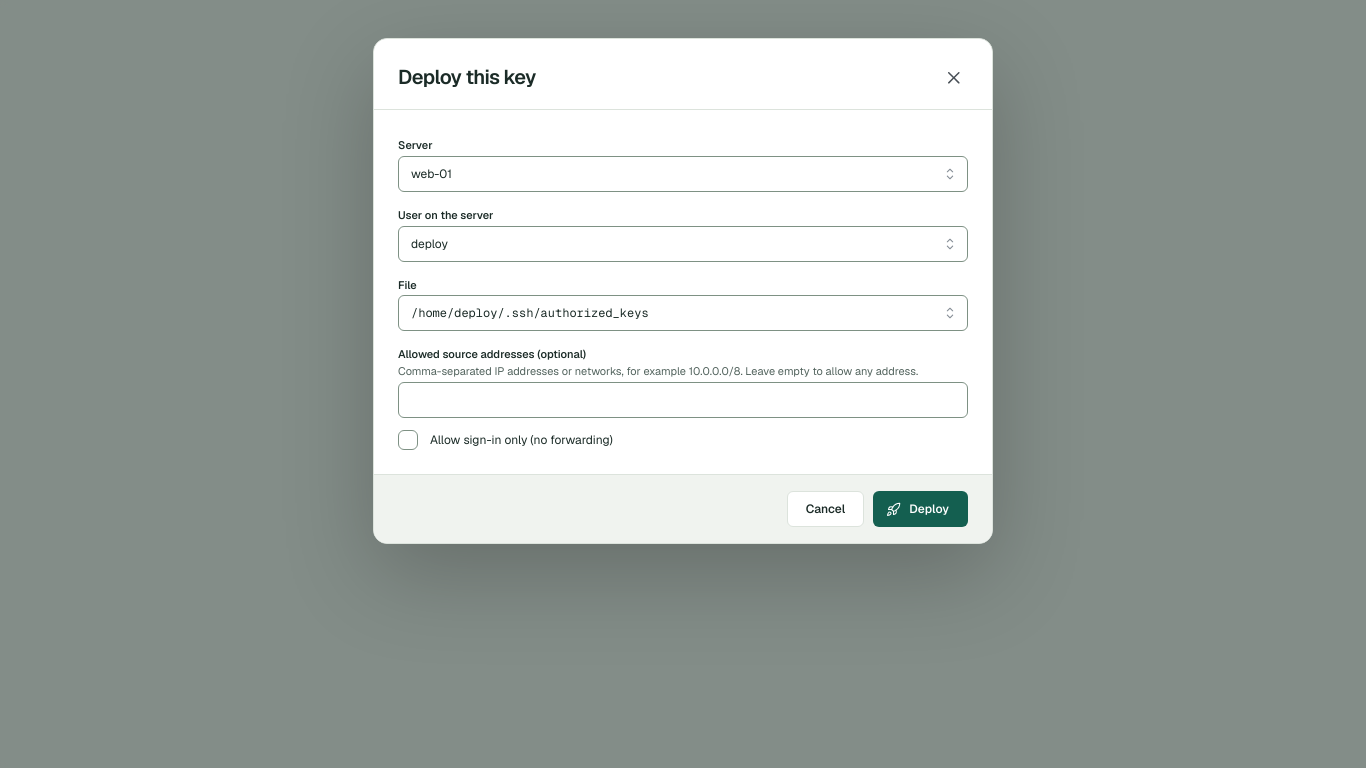
Test: DeployKeyDialog › sends neither option when they are left alone
Click the button "Deploy". click: x=921, y=509
box: 873,491 -> 968,527
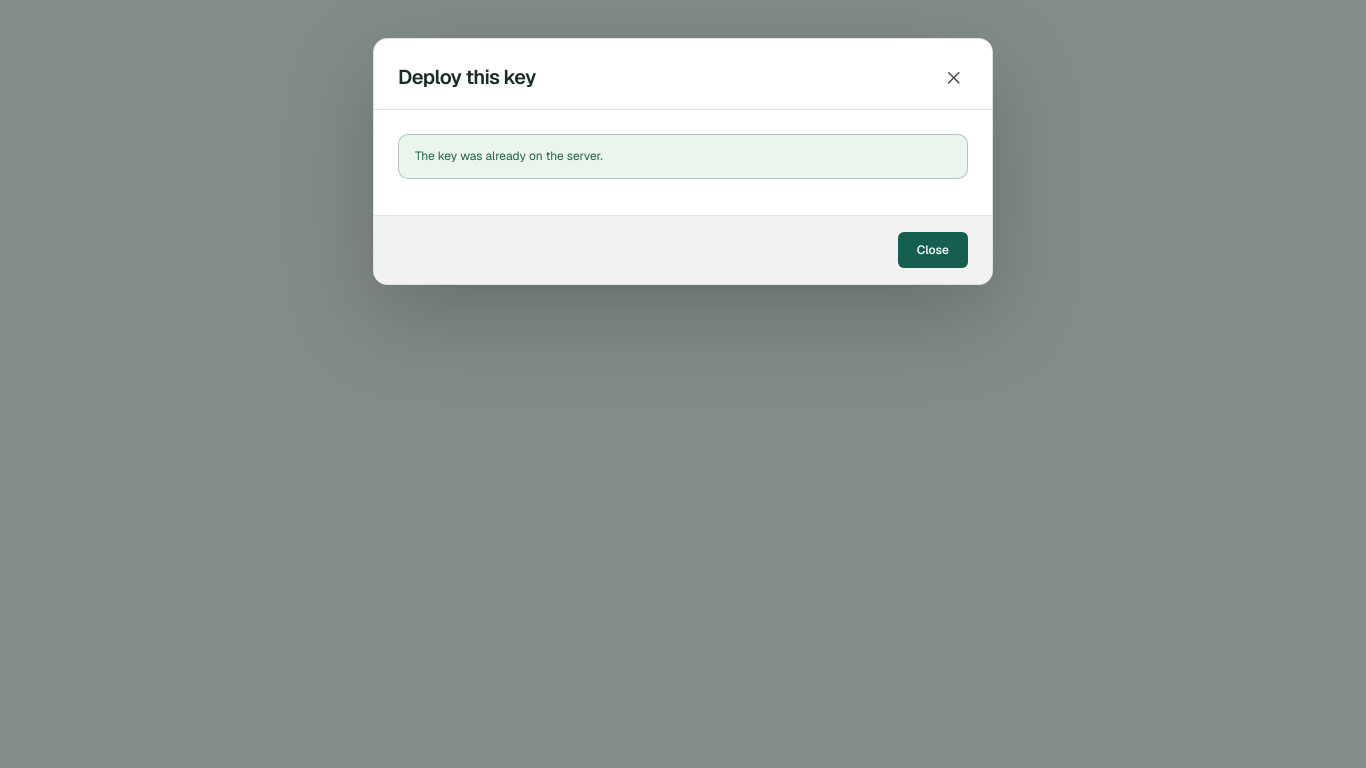
Check: the text "The key was already on the server." is shown, box 415,148 -> 603,164
